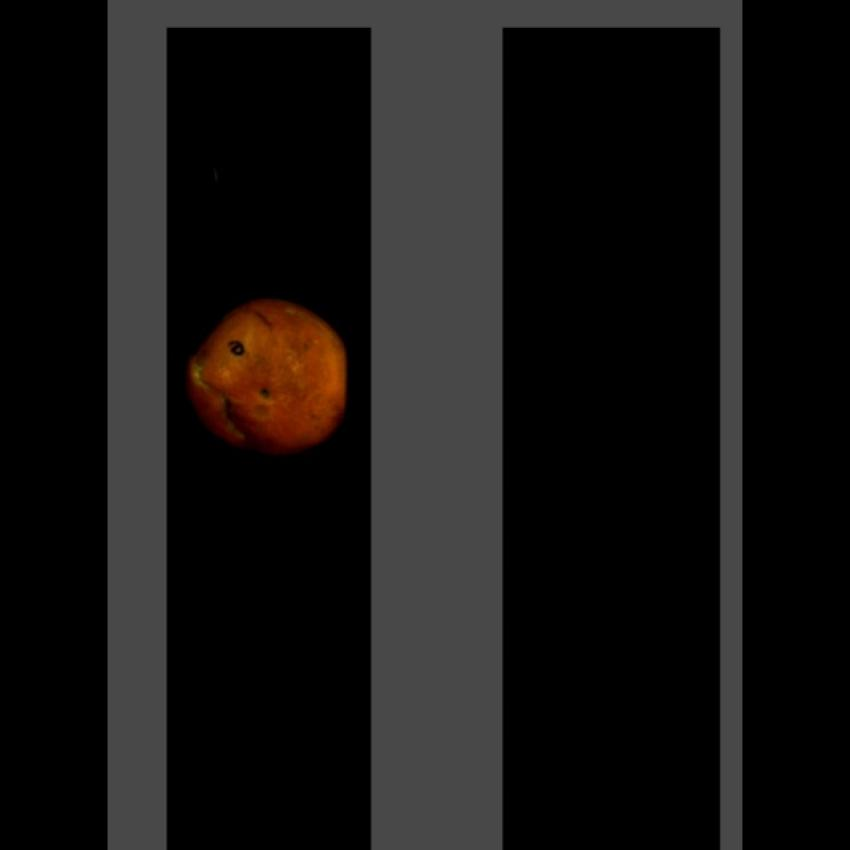Mal estado: (185, 296, 354, 468)
